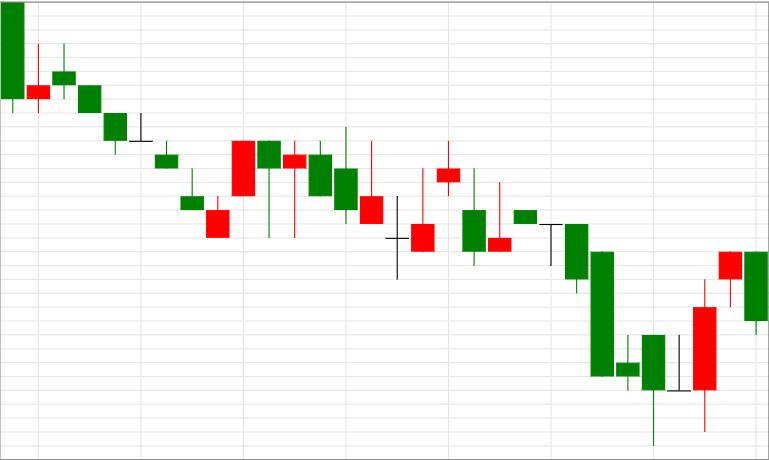inverse_hammer_rise: (258, 127, 435, 280), (258, 126, 384, 238)
morning_star_rise: (514, 209, 716, 446)
